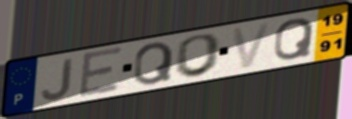E: (77, 45, 125, 101)
J: (39, 56, 75, 102)
O: (173, 32, 225, 80)
Q: (132, 40, 176, 87), (272, 17, 316, 63)
V: (229, 20, 274, 71)
